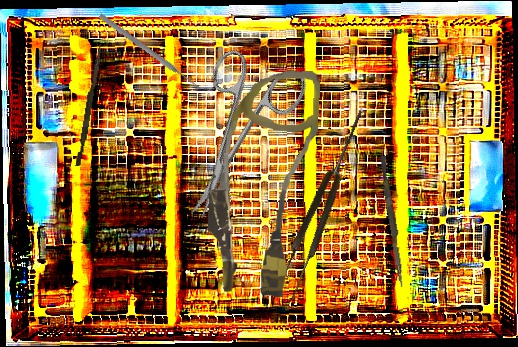Cannula: (204, 66, 321, 299)
Iris Scissors: (152, 40, 311, 235)
Pusher: (97, 12, 203, 92), (376, 155, 409, 288), (75, 43, 103, 167)
Tissue Forceps: (271, 104, 375, 304)
